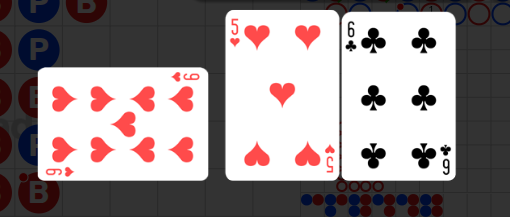5H: (228, 17, 241, 49)
6C: (345, 20, 359, 54)
9H: (45, 165, 76, 177)
